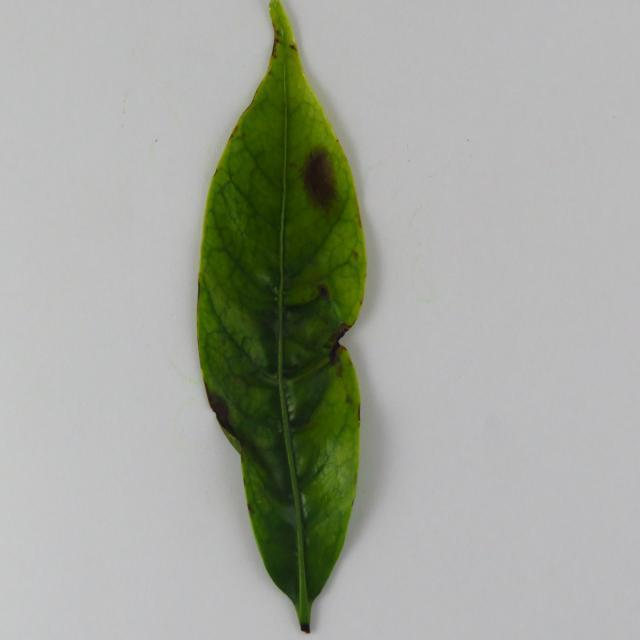DeficienciaNutricional-Manganeso: (198, 2, 366, 632)
